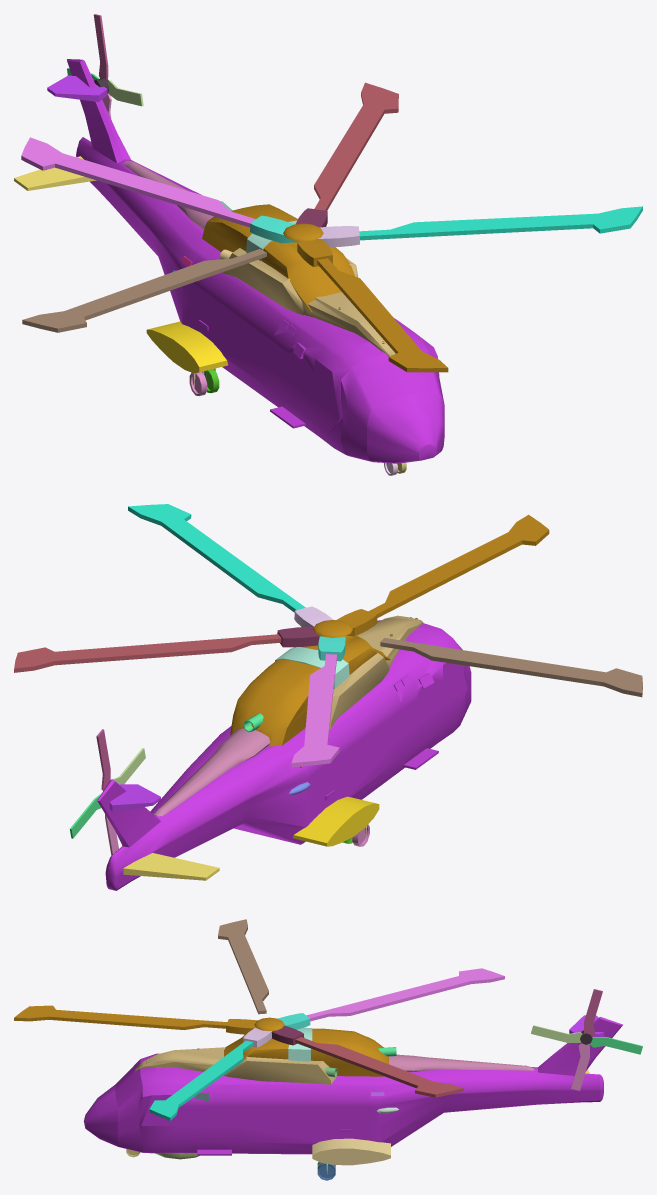
The picture shows the model from 3 angles, top to bottom: view 1: azimuth 30°, elevation 25°; view 2: azimuth 150°, elevation 25°; view 3: azimuth 270°, elevation 25°; orthographic projection. The views are drawn at different scales.
Parts seen in each view (by area): view 1: split_parent_5, split_parent_28, AW101_propellar_AW101-AW101_sha_0.045, AW101_propellar_AW101-AW101_sha_0.020, split_parent_29, AW101_propellar_AW101-AW101_sha_0.065, AW101_propellar_AW101-AW101_sha_0.005, AW101_AW101-AW101_sha_0.329, AW101_AW101-AW101_sha_0.364, AW101_AW101-AW101_sha_0.194, AW101_propellar_AW101-AW101_sha_0.015, split_parent_27 (+1 smaller); view 2: split_parent_5, split_parent_28, AW101_propellar_AW101-AW101_sha_0.065, AW101_propellar_AW101-AW101_sha_0.005, AW101_propellar_AW101-AW101_sha_0.045, split_parent_29, AW101_propellar_AW101-AW101_sha_0.020, split_parent_27, AW101_AW101-AW101_sha_0.329, AW101_AW101-AW101_sha_0.364, AW101_AW101-AW101_sha_0.194, split_parent_30 (+2 smaller); view 3: split_parent_5, split_parent_28, split_parent_29, AW101_propellar_AW101-AW101_sha_0.020, AW101_propellar_AW101-AW101_sha_0.005, AW101_propellar_AW101-AW101_sha_0.065, AW101_propellar_AW101-AW101_sha_0.045, split_parent_39, split_parent_27, AW101_backrotor_AW101-AW101_sha_0.030, split_parent_30, AW101_backrotor_AW101-AW101_sha_0.010 (+3 smaller).
Boxes of the visible parts, left/top/right/bottom form: split_parent_5: left=67, top=59, right=444, bottom=463; split_parent_28: left=202, top=204, right=448, bottom=372; AW101_propellar_AW101-AW101_sha_0.045: left=359, top=206, right=642, bottom=240; AW101_propellar_AW101-AW101_sha_0.020: left=21, top=137, right=255, bottom=227; split_parent_29: left=223, top=248, right=395, bottom=356; AW101_propellar_AW101-AW101_sha_0.065: left=22, top=249, right=266, bottom=332; AW101_propellar_AW101-AW101_sha_0.005: left=314, top=82, right=398, bottom=210; AW101_AW101-AW101_sha_0.329: left=146, top=321, right=228, bottom=373; AW101_AW101-AW101_sha_0.364: left=14, top=156, right=96, bottom=190; AW101_AW101-AW101_sha_0.194: left=47, top=75, right=107, bottom=101; AW101_propellar_AW101-AW101_sha_0.015: left=250, top=215, right=298, bottom=243; split_parent_27: left=124, top=161, right=213, bottom=229; split_parent_5: left=97, top=620, right=471, bottom=890; split_parent_28: left=230, top=514, right=549, bottom=746; AW101_propellar_AW101-AW101_sha_0.065: left=380, top=637, right=642, bottom=697; AW101_propellar_AW101-AW101_sha_0.005: left=14, top=634, right=281, bottom=672; AW101_propellar_AW101-AW101_sha_0.045: left=128, top=504, right=305, bottom=612; split_parent_29: left=329, top=615, right=423, bottom=729; AW101_propellar_AW101-AW101_sha_0.020: left=291, top=654, right=339, bottom=767; split_parent_27: left=153, top=728, right=270, bottom=816; AW101_AW101-AW101_sha_0.329: left=293, top=796, right=379, bottom=846; AW101_AW101-AW101_sha_0.364: left=123, top=853, right=219, bottom=880; AW101_AW101-AW101_sha_0.194: left=109, top=784, right=160, bottom=811; split_parent_30: left=275, top=647, right=349, bottom=689; split_parent_5: left=83, top=1017, right=622, bottom=1155; split_parent_28: left=14, top=1005, right=388, bottom=1076; split_parent_29: left=135, top=1047, right=337, bottom=1084; AW101_propellar_AW101-AW101_sha_0.020: left=306, top=968, right=504, bottom=1021; AW101_propellar_AW101-AW101_sha_0.005: left=295, top=1037, right=463, bottom=1097; AW101_propellar_AW101-AW101_sha_0.065: left=218, top=919, right=268, bottom=1014; AW101_propellar_AW101-AW101_sha_0.045: left=149, top=1040, right=253, bottom=1120; split_parent_39: left=312, top=1138, right=390, bottom=1165; split_parent_27: left=388, top=1054, right=534, bottom=1071; AW101_backrotor_AW101-AW101_sha_0.030: left=589, top=1037, right=642, bottom=1054; split_parent_30: left=288, top=1027, right=312, bottom=1061; AW101_backrotor_AW101-AW101_sha_0.010: left=531, top=1025, right=582, bottom=1042.
Bounding box in the file's own units: 0.7809 × 0.2998 × 1.
